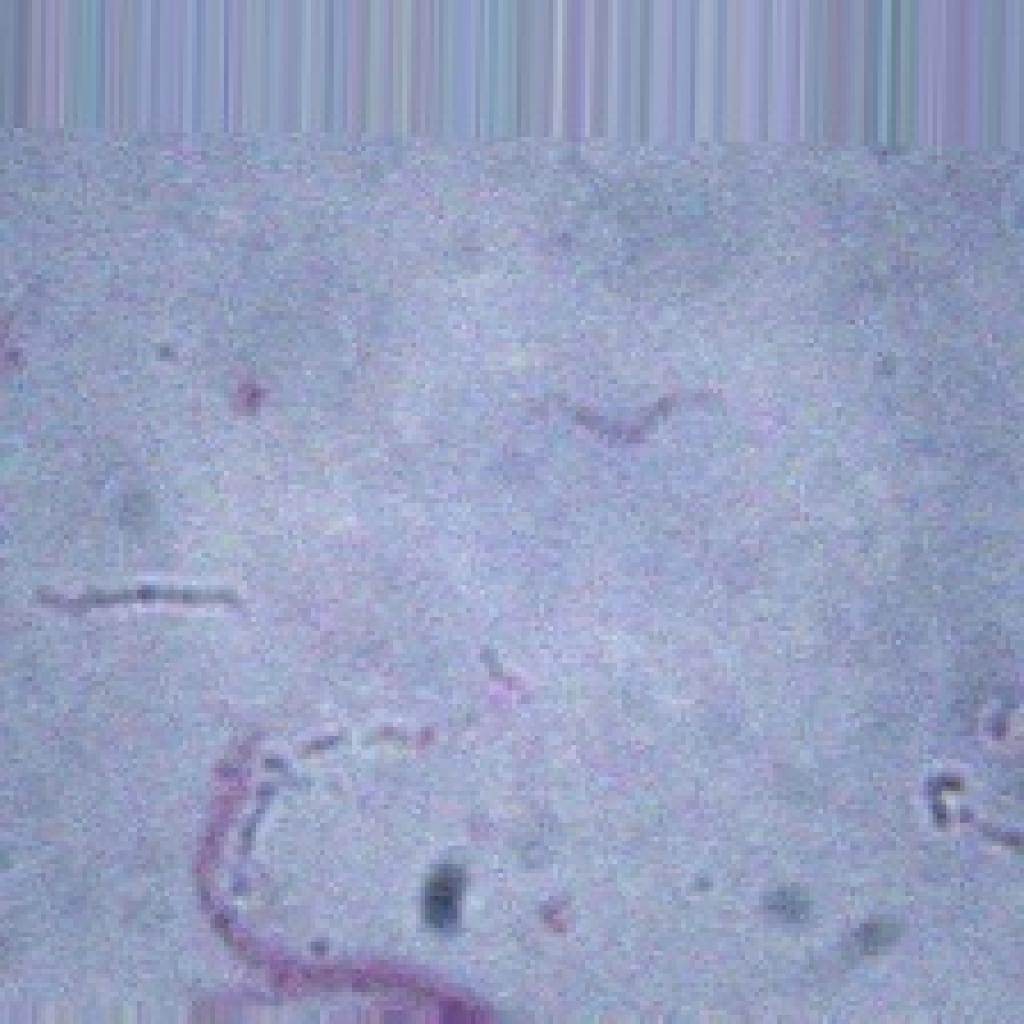Sprialbacteria: (7, 125, 1024, 1024)
